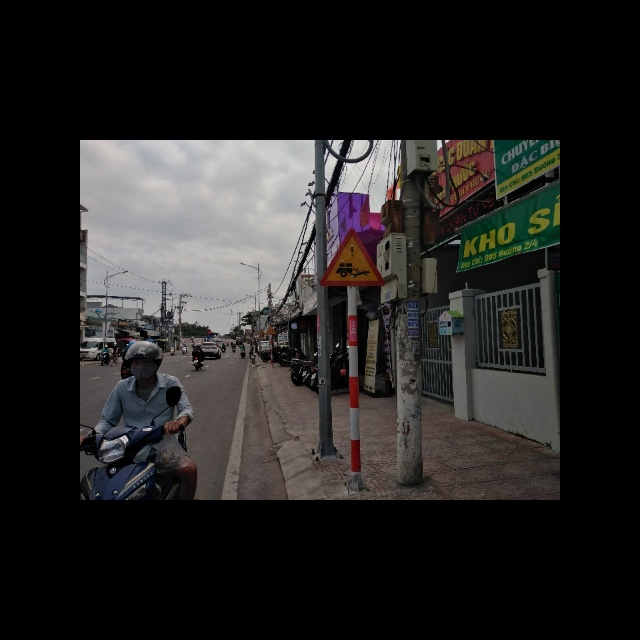Đoạn đường hay xảy ra tai nạn: (320, 227, 387, 287)
